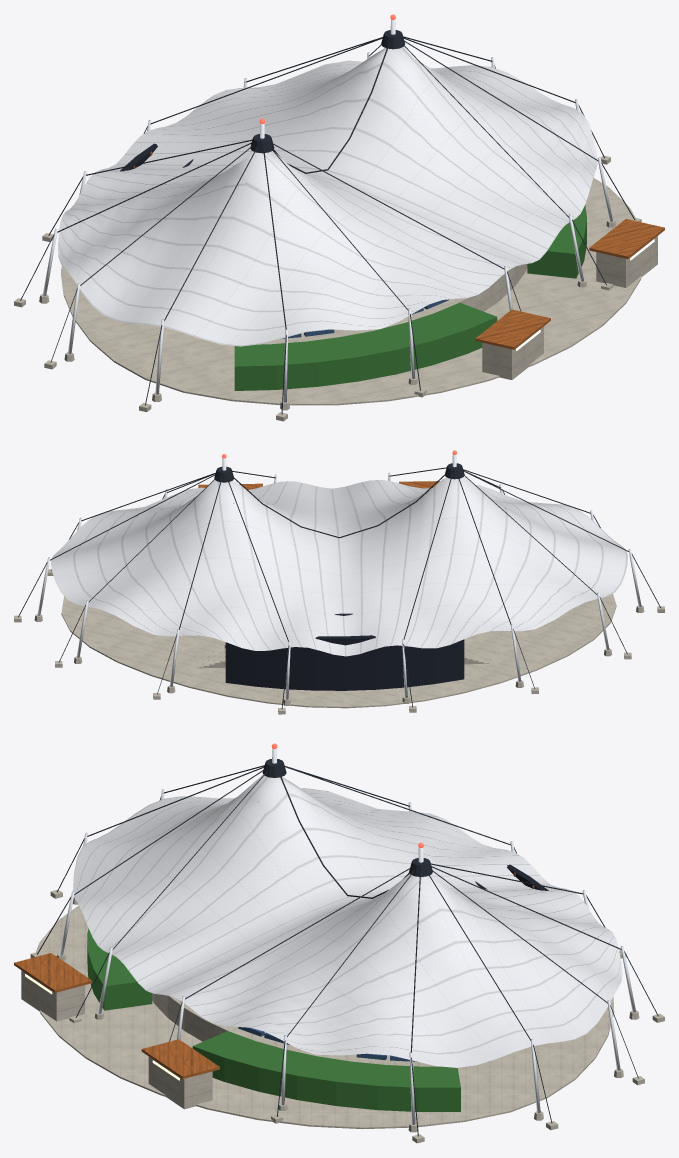
Rendered from landmark_shoreline_amphitheatre.glb.
3 renders of one model, top to bottom at view 1: azimuth 30°, elevation 25°; view 2: azimuth 150°, elevation 25°; view 3: azimuth 270°, elevation 25°, orthographic. The views are drawn at different scales.
Parts seen in each view (by area): view 1: ShoreAmph_TentRoof, ShoreAmph_ConcreteBowl, ShoreAmph_LawnRim, ShoreAmph_DarkSteelCables, ShoreAmph_StageCedar, ShoreAmph_WhiteMasts; view 2: ShoreAmph_TentRoof, ShoreAmph_ConcreteBowl, ShoreAmph_AcousticWall, ShoreAmph_DarkSteelCables, ShoreAmph_WhiteMasts; view 3: ShoreAmph_TentRoof, ShoreAmph_ConcreteBowl, ShoreAmph_LawnRim, ShoreAmph_DarkSteelCables, ShoreAmph_StageCedar, ShoreAmph_WhiteMasts.
Boxes of the visible parts, bbox=[...] form: ShoreAmph_TentRoof: bbox=[58, 46, 597, 346]; ShoreAmph_ConcreteBowl: bbox=[14, 155, 657, 421]; ShoreAmph_LawnRim: bbox=[234, 205, 586, 390]; ShoreAmph_DarkSteelCables: bbox=[20, 30, 635, 414]; ShoreAmph_StageCedar: bbox=[133, 151, 664, 349]; ShoreAmph_WhiteMasts: bbox=[42, 19, 612, 402]; ShoreAmph_TentRoof: bbox=[51, 476, 627, 656]; ShoreAmph_ConcreteBowl: bbox=[14, 569, 664, 714]; ShoreAmph_AcousticWall: bbox=[225, 635, 464, 690]; ShoreAmph_DarkSteelCables: bbox=[18, 463, 660, 708]; ShoreAmph_WhiteMasts: bbox=[37, 454, 641, 699]; ShoreAmph_TentRoof: bbox=[73, 774, 622, 1067]; ShoreAmph_ConcreteBowl: bbox=[21, 889, 664, 1143]; ShoreAmph_LawnRim: bbox=[87, 928, 460, 1111]; ShoreAmph_DarkSteelCables: bbox=[37, 759, 658, 1136]; ShoreAmph_StageCedar: bbox=[14, 872, 534, 1079]; ShoreAmph_WhiteMasts: bbox=[59, 748, 635, 1124].
Size of the model in its own units: 69.62 by 20.68 by 62.18.
10 materials, 3 textured.
